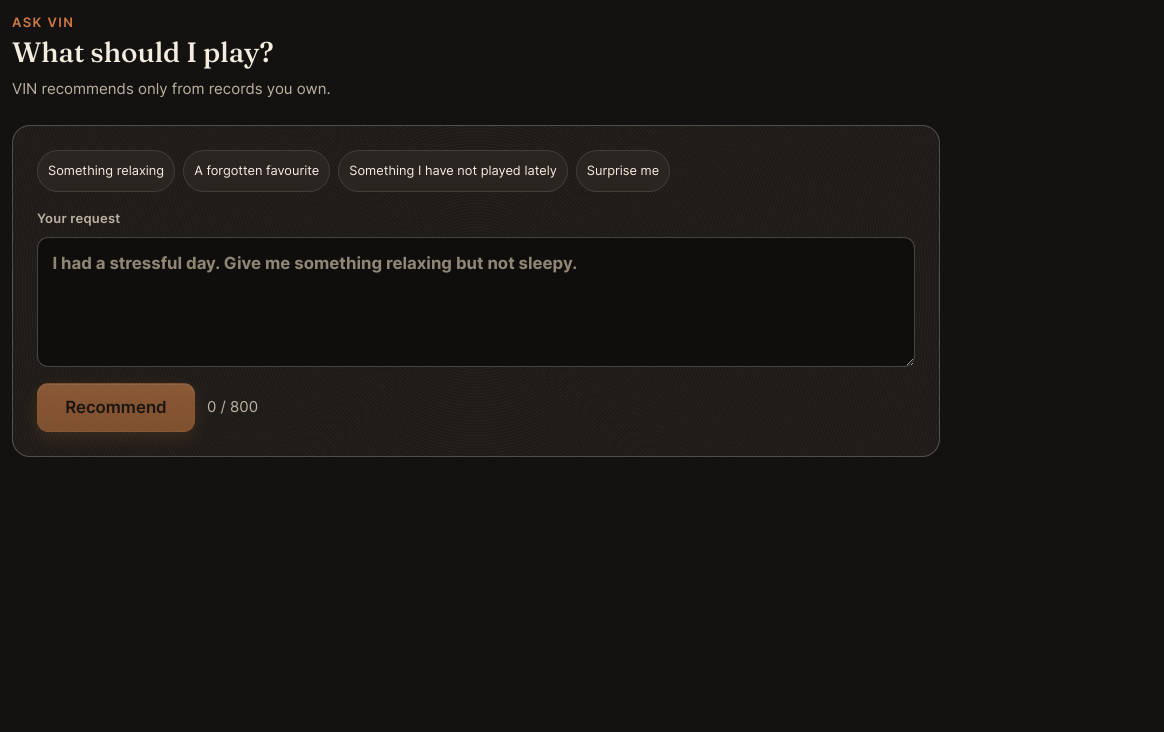
Test: CuratorPanel › renders no_match with the interpreted constraints and keeps the textarea
This screenshot has width=1164, height=732.
Step 1. Type "90s rock no jazz not recent" into the text box labelled "Your request" → (476, 302), box [37,237,915,367]
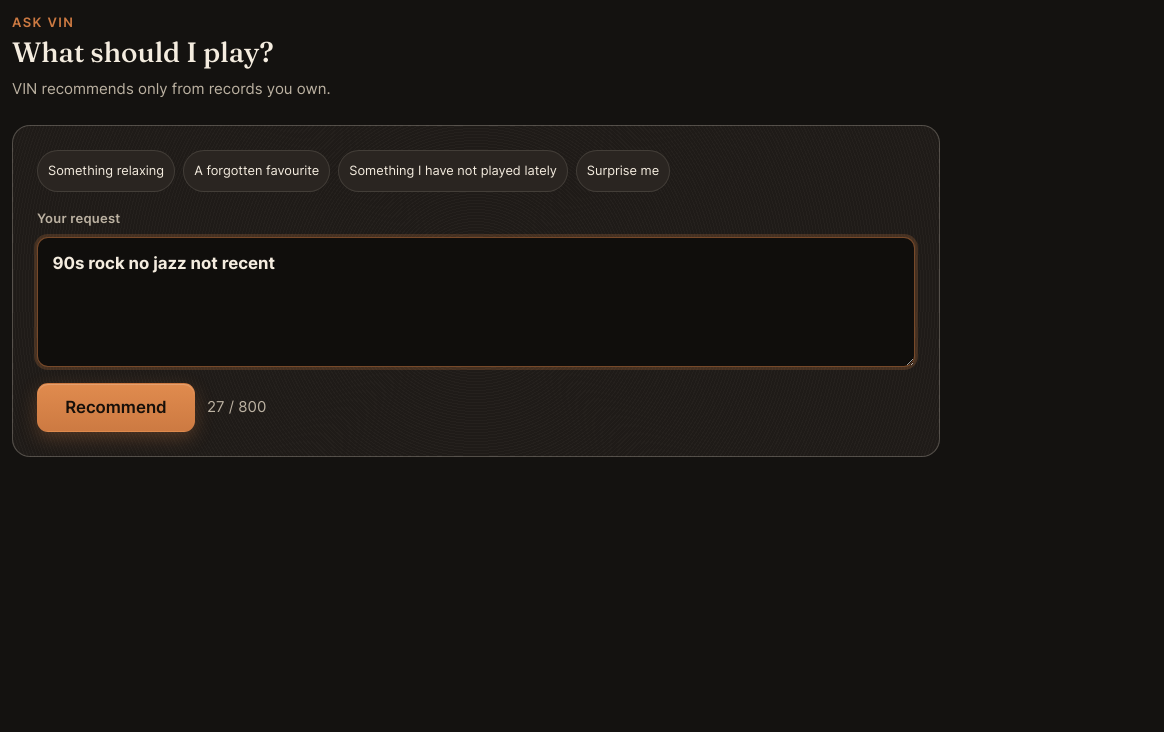
Step 2. Click the button "Recommend" → (116, 408), box [37,383,195,432]
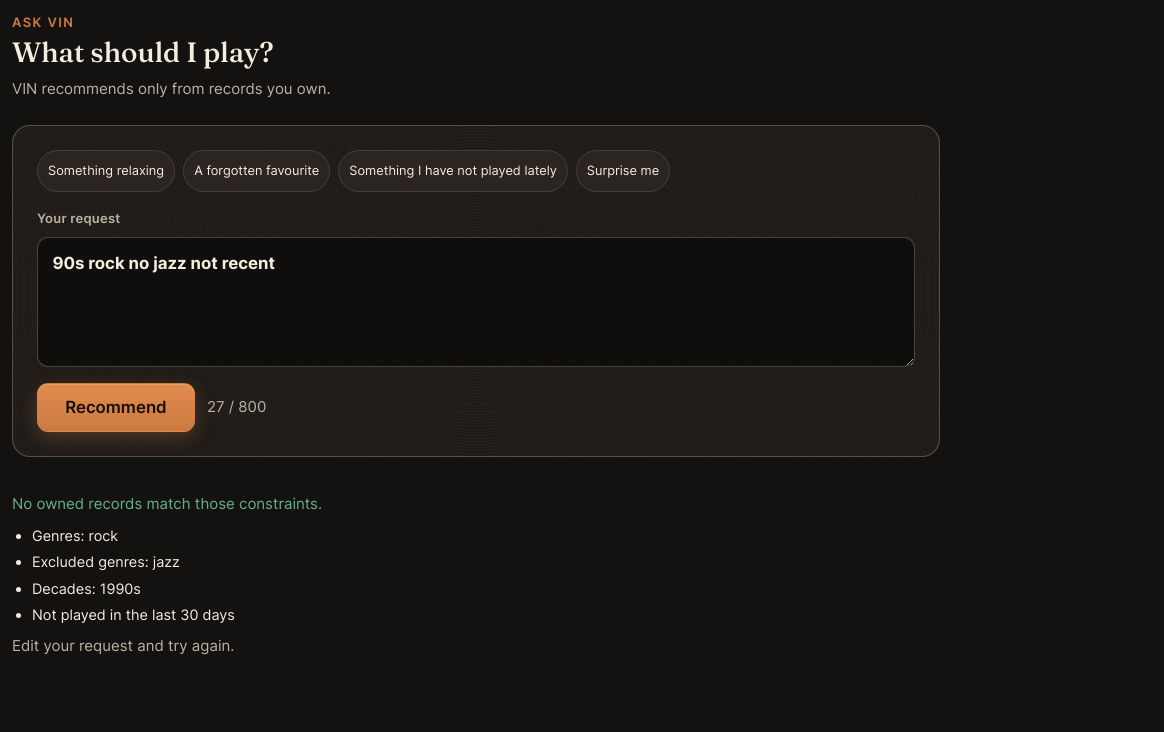
Check: the text "No owned records match those constraints." is shown, box [12,494,322,513]
Check: the list item "Decades: 1990s" is shown, box [32,580,141,597]
Check: the list item "Not played in the last 30 days" is shown, box [32,606,235,623]
